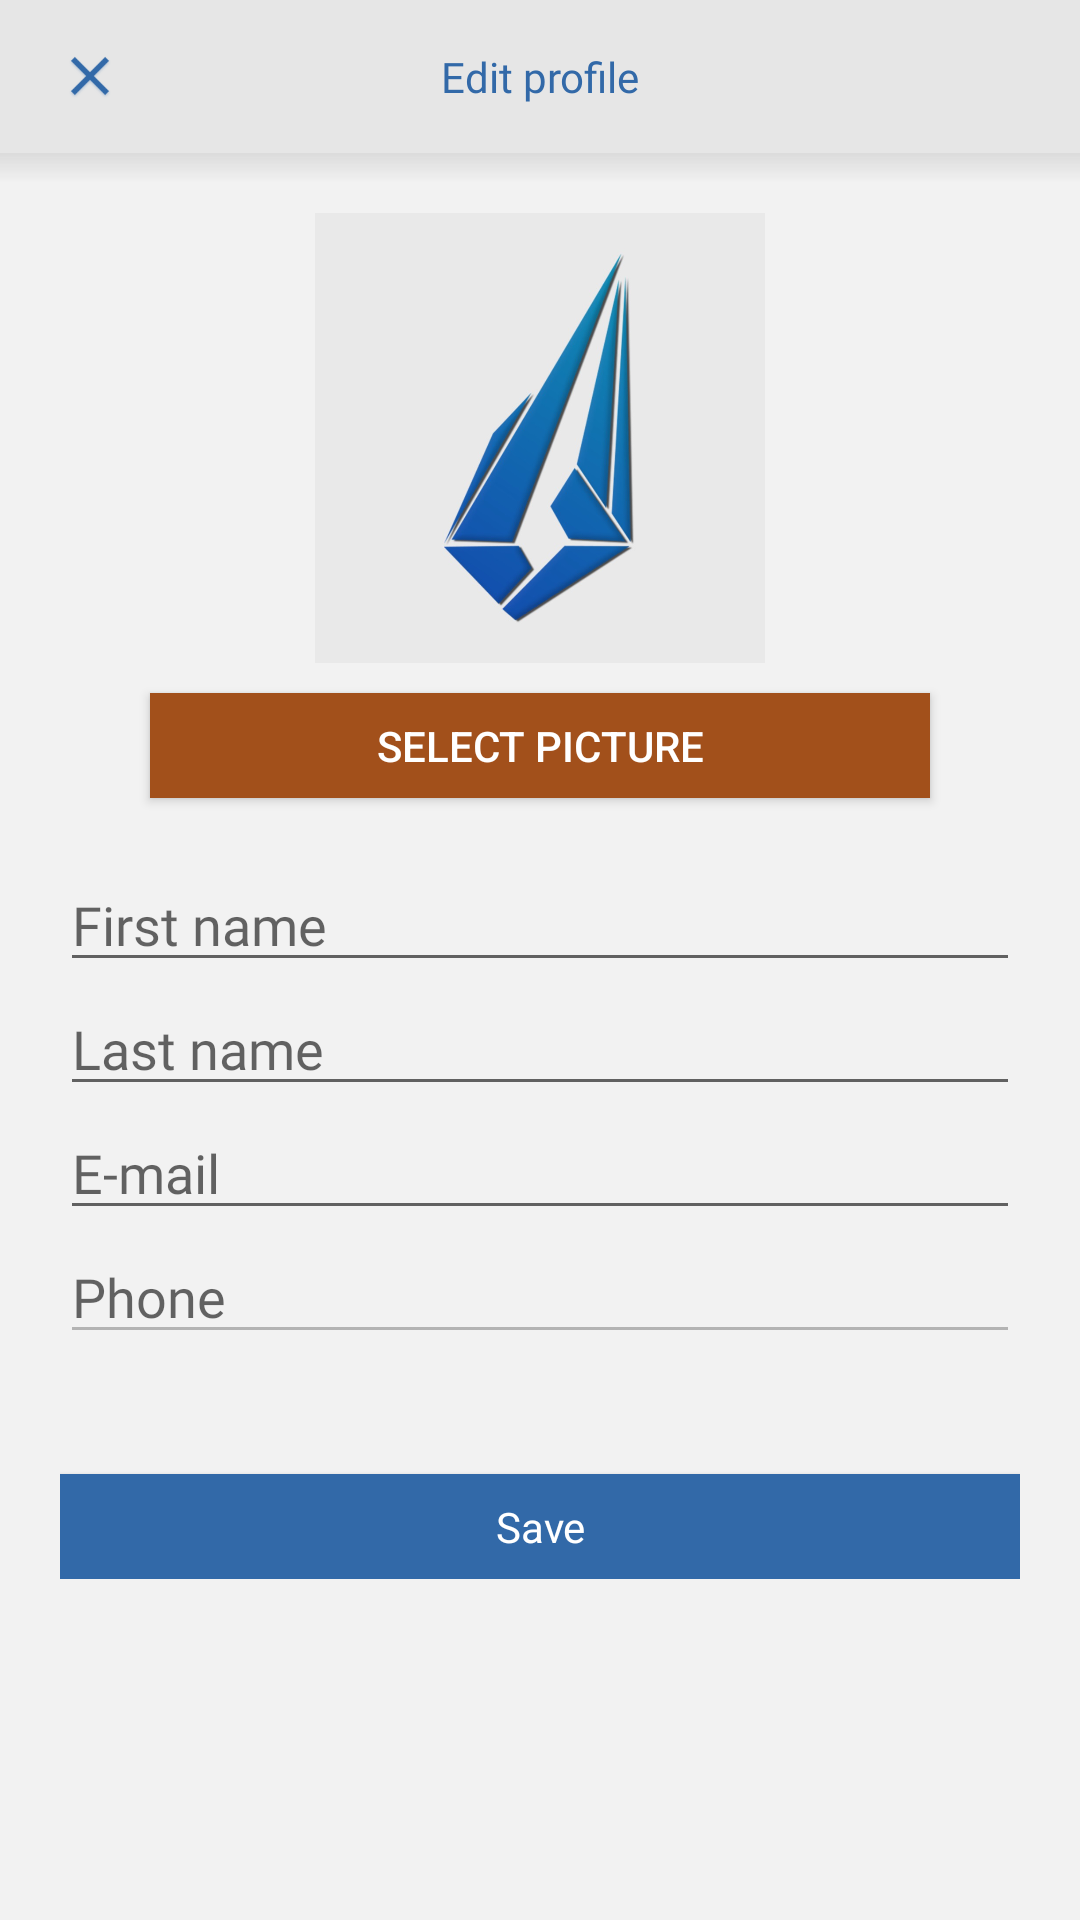

Where icons sit on this 1080 x 1920 app screen, as (x1, y1, x2, y2):
close: (71, 57, 109, 96)
